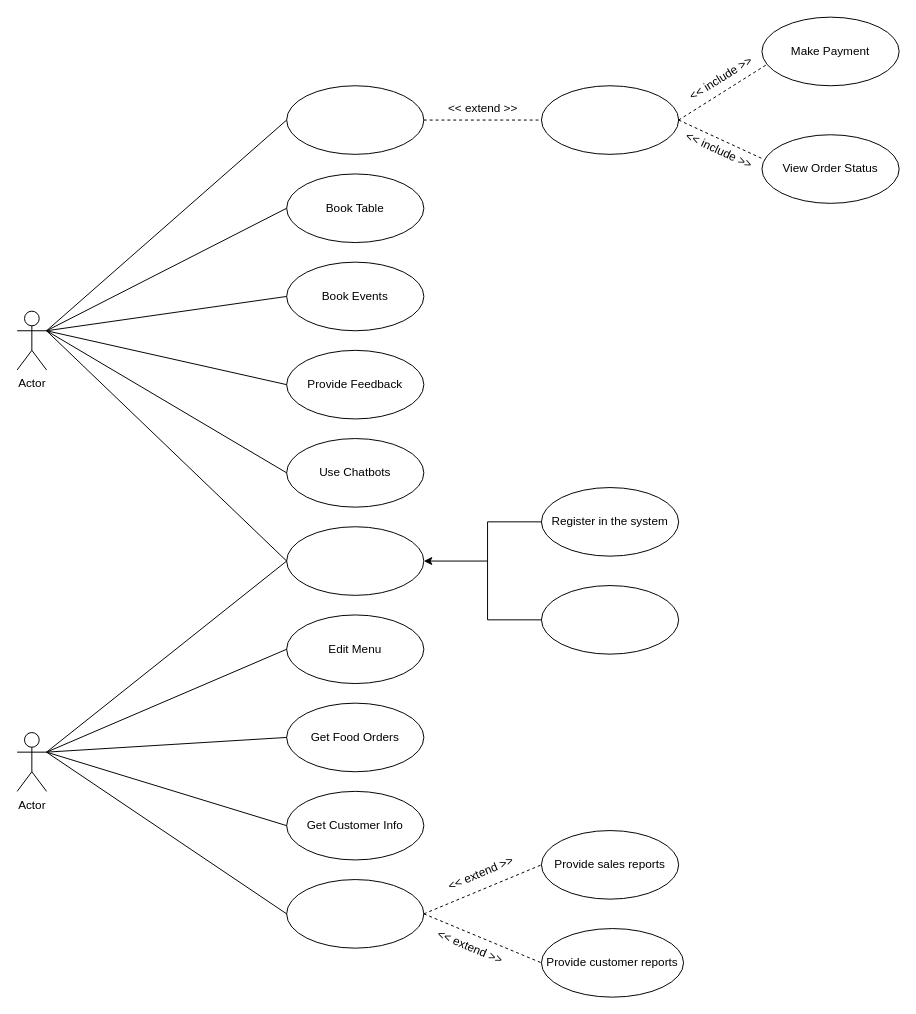
The diagram is 916 pixels wide and 1014 high, and some of its shapes have lost their labels. The box of each missing label's shape, as (x1, y1, x2, y2) in pixels:
Browse Menu: (286, 85, 424, 154)
Generate Reports: (286, 879, 424, 948)
Login in the system: (540, 585, 679, 654)
Make Authentication: (286, 526, 424, 595)
Order Food: (540, 85, 679, 154)
